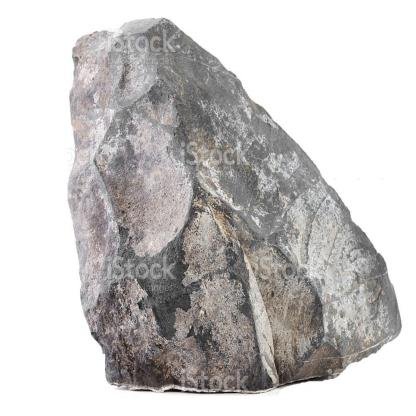Igneous_Granite: (48, 4, 409, 391)
